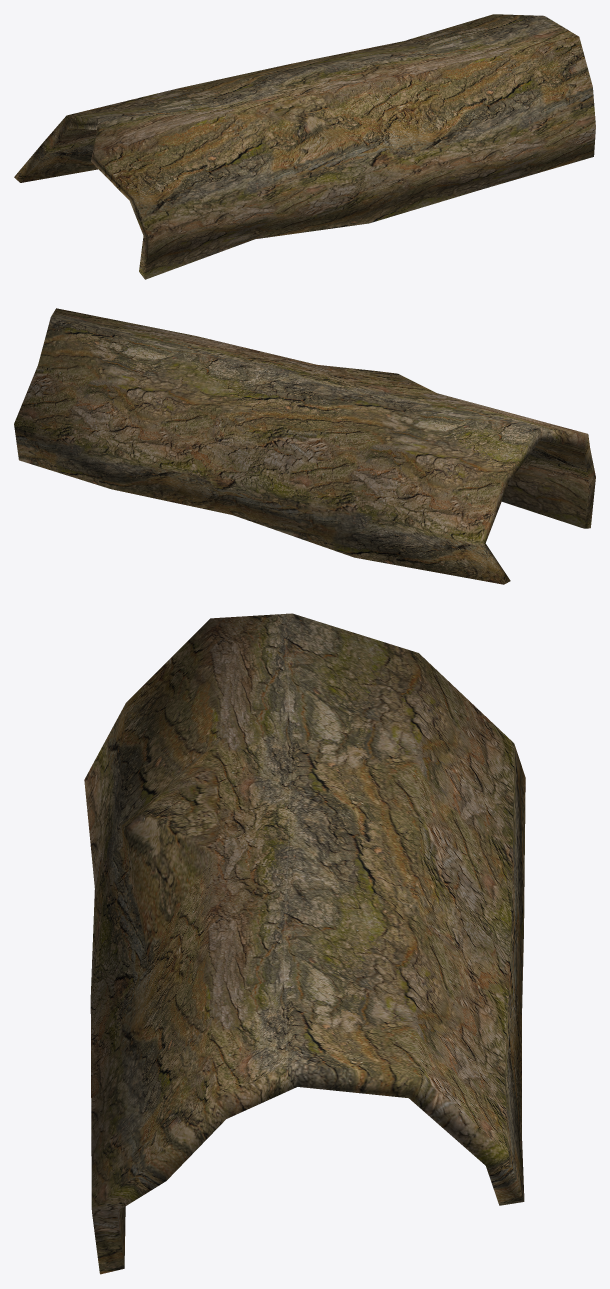
File: TroncoRio01.FBX
3 renders of one model, top to bottom at view 1: azimuth 30°, elevation 25°; view 2: azimuth 150°, elevation 25°; view 3: azimuth 270°, elevation 25°, orthographic. The views are drawn at different scales.
Parts seen in each view (by area): view 1: Cylinder001; view 2: Cylinder001; view 3: Cylinder001.
Part boxes in pixels (box(x1,y1,x2,y2)): Cylinder001: box(14, 14, 595, 279); Cylinder001: box(14, 308, 595, 584); Cylinder001: box(84, 613, 525, 1274).
Bounding box in the file's own units: 169 × 41.82 × 66.14.
